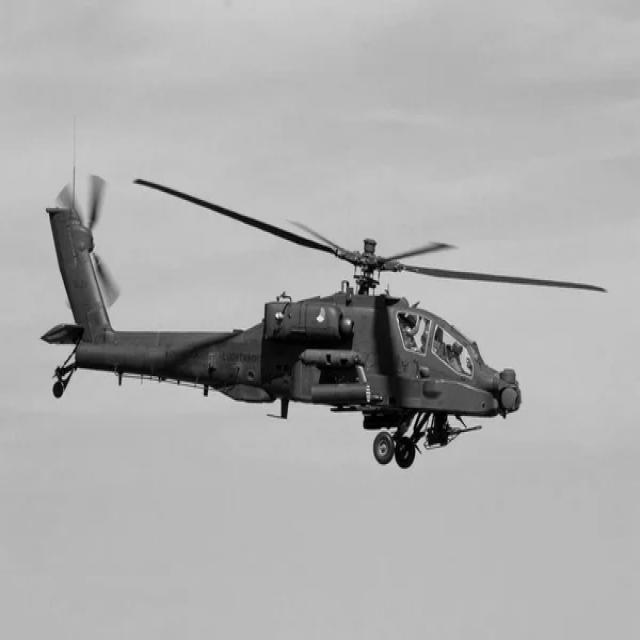Helicopter: (42, 170, 607, 470)
